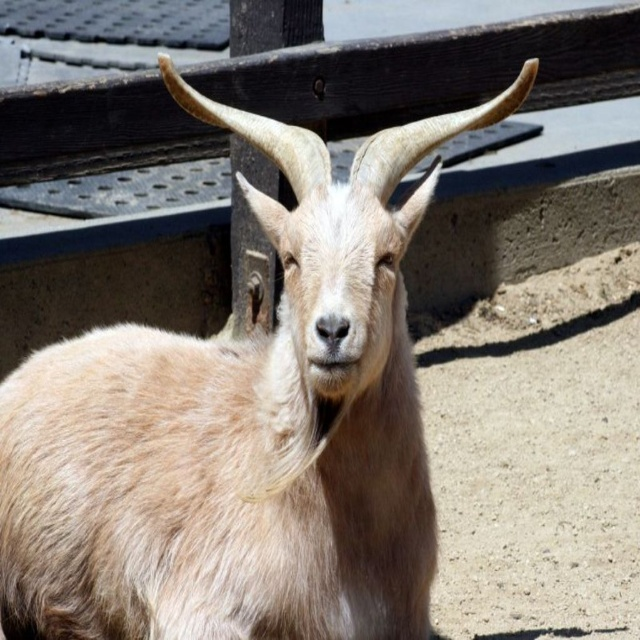Goat: (2, 58, 532, 638)
